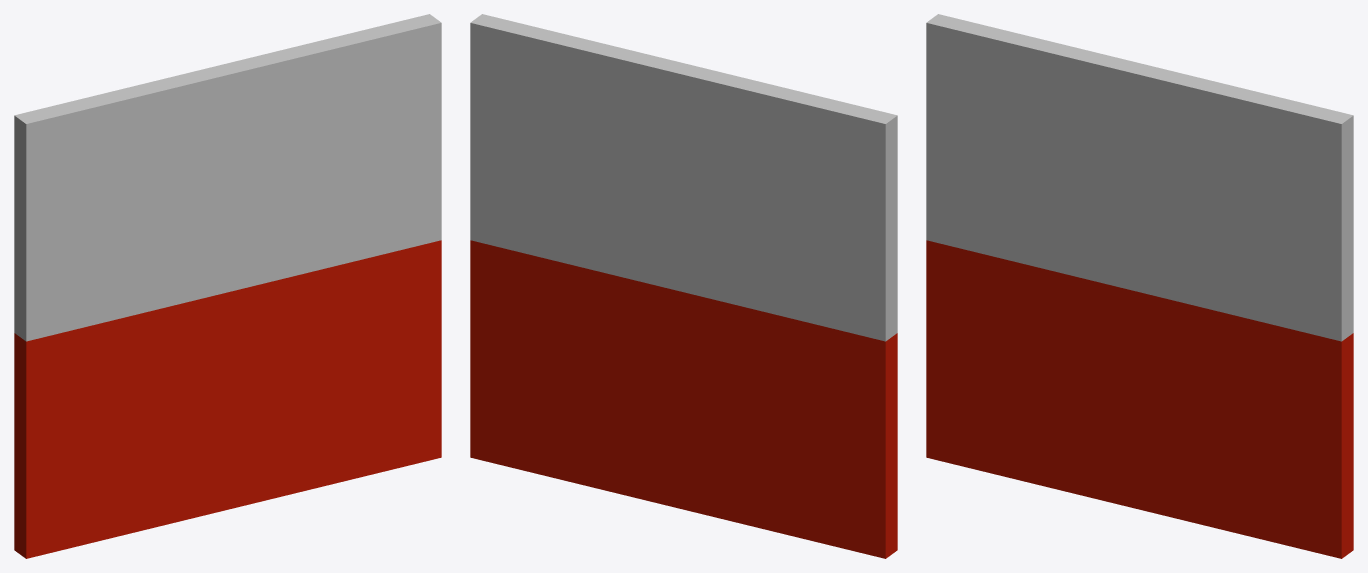
Rendered from wall.obj.
3 views of the same model, side by side, from view 1: azimuth 30°, elevation 25°; view 2: azimuth 150°, elevation 25°; view 3: azimuth 330°, elevation 25° (orthographic).
Parts seen in each view (by area): view 1: Plane.001_Plane.003; view 2: Plane.001_Plane.003; view 3: Plane.001_Plane.003.
Part boxes in pixels (left/top/right/bottom): Plane.001_Plane.003: left=14, top=14, right=441, bottom=558; Plane.001_Plane.003: left=470, top=14, right=897, bottom=558; Plane.001_Plane.003: left=926, top=14, right=1353, bottom=558.
Size of the model in its own units: 4 by 4 by 0.2.
